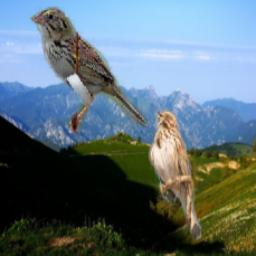Sparrow: (29, 8, 148, 134), (150, 106, 202, 240)
